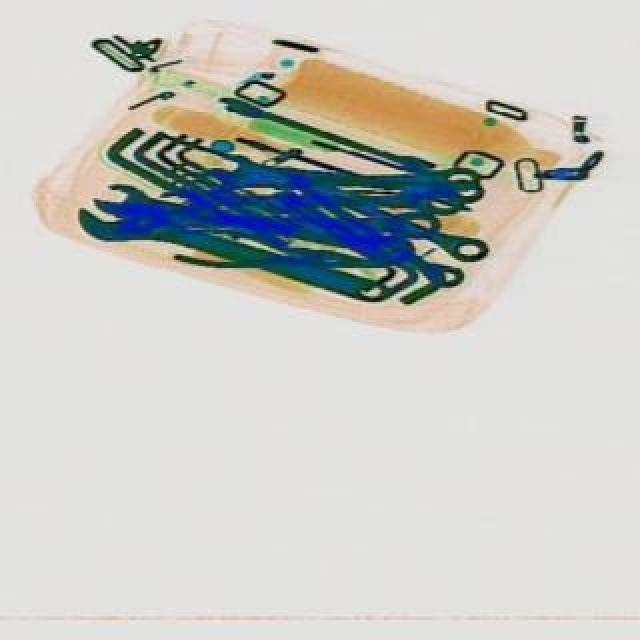scissors: (70, 186, 396, 322), (88, 182, 412, 270), (208, 154, 476, 198)
